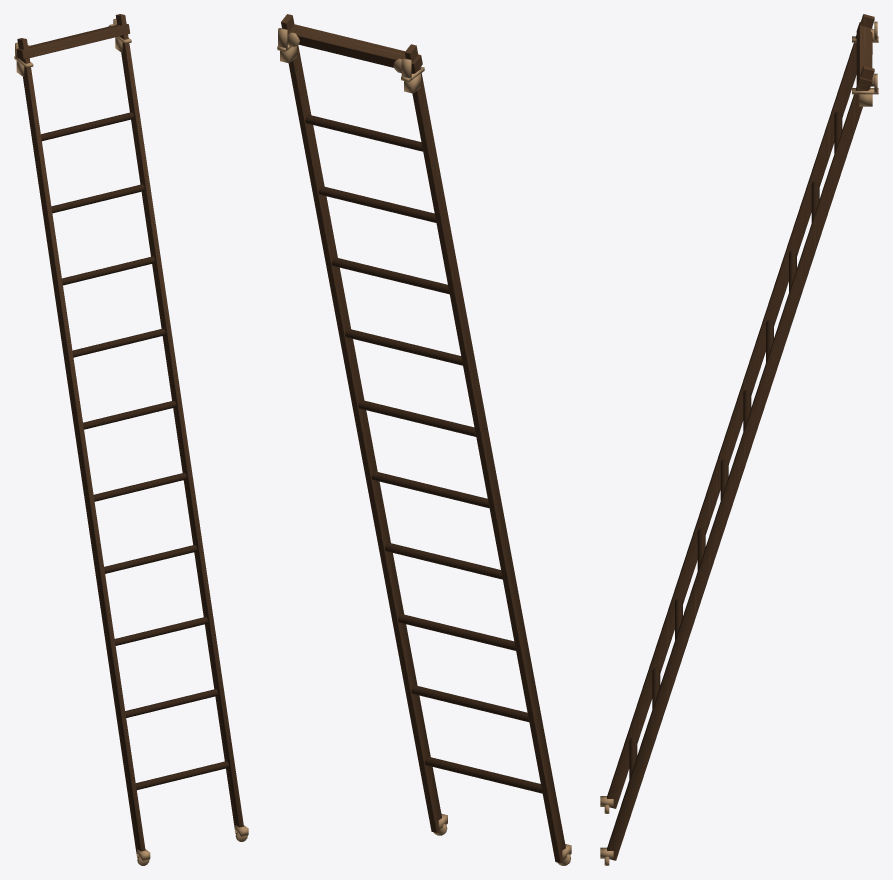
Rendered from library_ladder_secret.gltf.
3 renders of one model, left to right at view 1: azimuth 30°, elevation 25°; view 2: azimuth 150°, elevation 25°; view 3: azimuth 270°, elevation 25°, orthographic. The views are drawn at different scales.
Parts seen in each view (by area): view 1: LibraryLadderSecret_Wood, LibraryLadderSecret_Rungs, LibraryLadderSecret_Bronze; view 2: LibraryLadderSecret_Wood, LibraryLadderSecret_Rungs, LibraryLadderSecret_Bronze; view 3: LibraryLadderSecret_Wood, LibraryLadderSecret_Rungs, LibraryLadderSecret_Bronze.
Boxes of the visible parts, <box> form: LibraryLadderSecret_Wood: <box>16,14,243,857</box>; LibraryLadderSecret_Rungs: <box>41,112,228,789</box>; LibraryLadderSecret_Bronze: <box>14,19,248,865</box>; LibraryLadderSecret_Wood: <box>281,14,565,863</box>; LibraryLadderSecret_Rungs: <box>305,114,542,793</box>; LibraryLadderSecret_Bronze: <box>277,28,571,865</box>; LibraryLadderSecret_Wood: <box>607,14,874,860</box>; LibraryLadderSecret_Rungs: <box>629,111,842,779</box>; LibraryLadderSecret_Bronze: <box>600,21,878,865</box>.
Size of the model in its own units: 0.5121 by 3.3 by 1.04.
2 materials, 1 textured.
